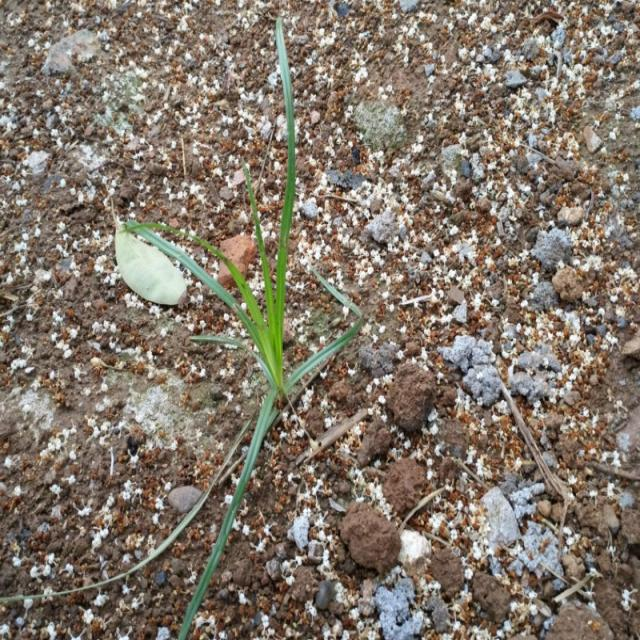sedge: (115, 27, 378, 638)
